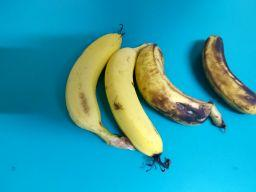banana: (63, 21, 136, 153), (103, 41, 172, 175), (134, 41, 227, 132), (200, 34, 256, 116)
